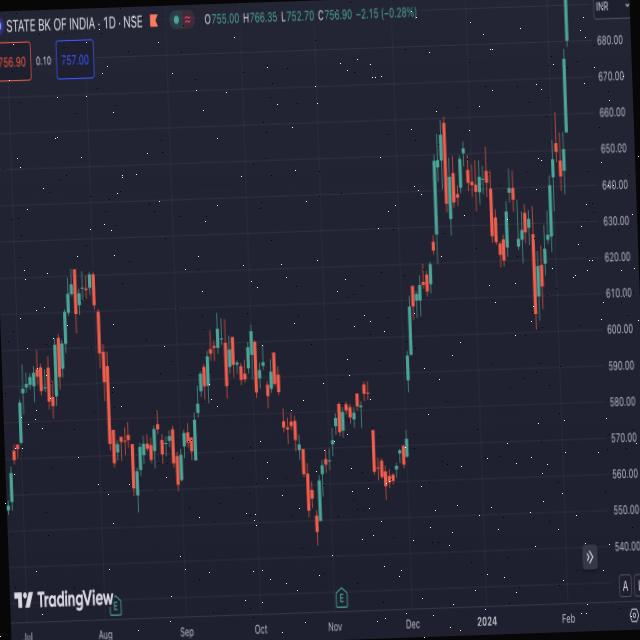Gap Down: (362, 374, 379, 478), (275, 358, 287, 452), (310, 481, 322, 566)
Gap Up: (398, 352, 419, 466), (423, 227, 440, 298)
